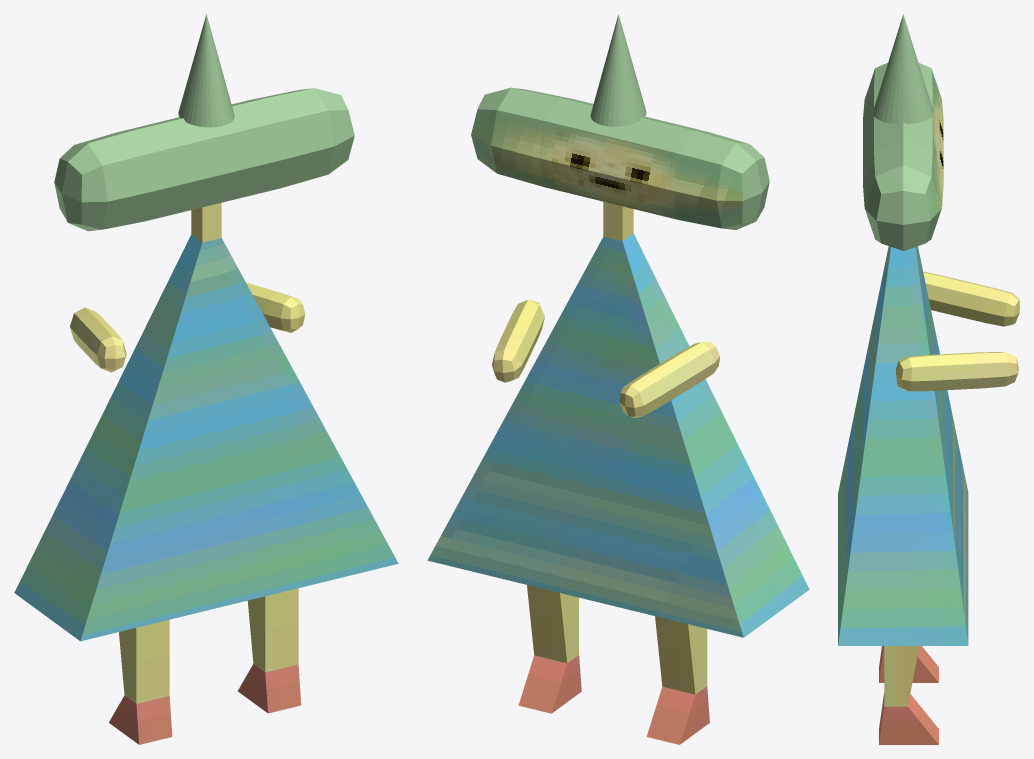
Rendered from character1.fbx.
3 views of the same model, side by side, from view 1: azimuth 30°, elevation 25°; view 2: azimuth 150°, elevation 25°; view 3: azimuth 270°, elevation 25° (orthographic).
Visible parts, largest first — view 1: Cube.001, Cube, Cube.002, Cube.003, Cone, Cube.005, Cube.004; view 2: Cube.001, Cube, Cube.003, Cube.002, Cube.005, Cone, Cube.004; view 3: Cube.001, Cube, Cube.004, Cube.002, Cone, Cube.005, Cube.003.
Boxes of the visible parts, x1,y1,x2,y2 form: Cube.001: [14, 203, 398, 641]; Cube: [54, 88, 354, 231]; Cube.002: [238, 588, 301, 713]; Cube.003: [109, 619, 172, 744]; Cone: [178, 14, 234, 127]; Cube.005: [70, 307, 126, 372]; Cube.004: [246, 282, 305, 332]; Cube.001: [427, 201, 809, 637]; Cube: [471, 87, 769, 229]; Cube.003: [646, 616, 709, 744]; Cube.002: [518, 585, 581, 713]; Cube.005: [619, 342, 719, 417]; Cone: [590, 14, 646, 126]; Cube.004: [492, 299, 544, 382]; Cube.001: [838, 246, 968, 645]; Cube: [863, 62, 943, 251]; Cube.004: [895, 352, 1018, 391]; Cube.002: [879, 646, 938, 744]; Cone: [872, 14, 933, 124]; Cube.005: [923, 271, 1019, 326]; Cube.003: [879, 646, 938, 682].
Bounding box in the file's own units: 96.2 × 203 × 48.33.
Materials: 3 (3 with a texture image).
